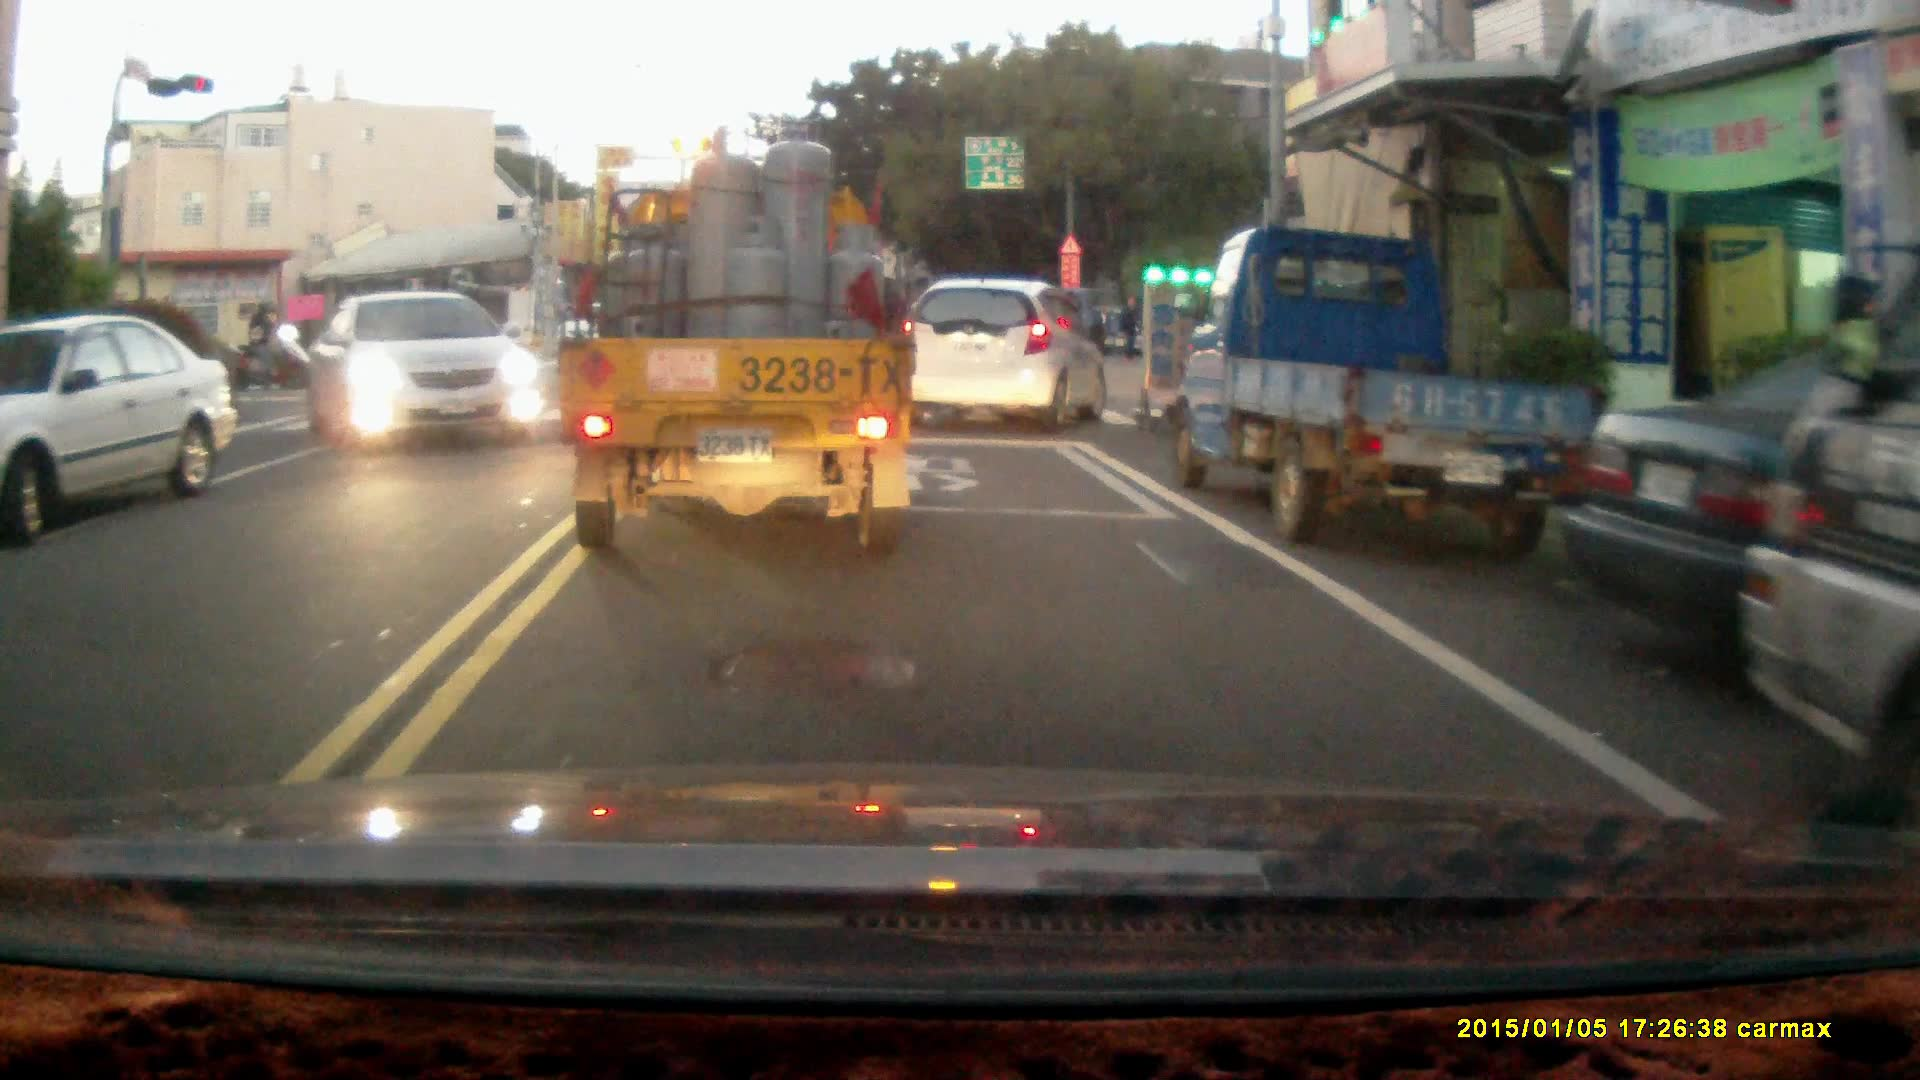rider: (225, 300, 309, 392)
vehicle: (557, 115, 920, 553), (1182, 226, 1594, 558), (1735, 260, 1920, 807), (1, 317, 236, 529), (300, 291, 543, 446), (905, 279, 1117, 430)
